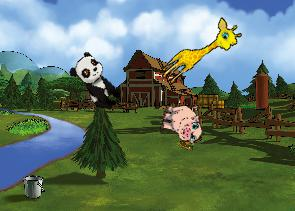giraffe: (157, 13, 245, 94)
panda: (65, 49, 128, 115)
pig: (157, 100, 205, 145)
